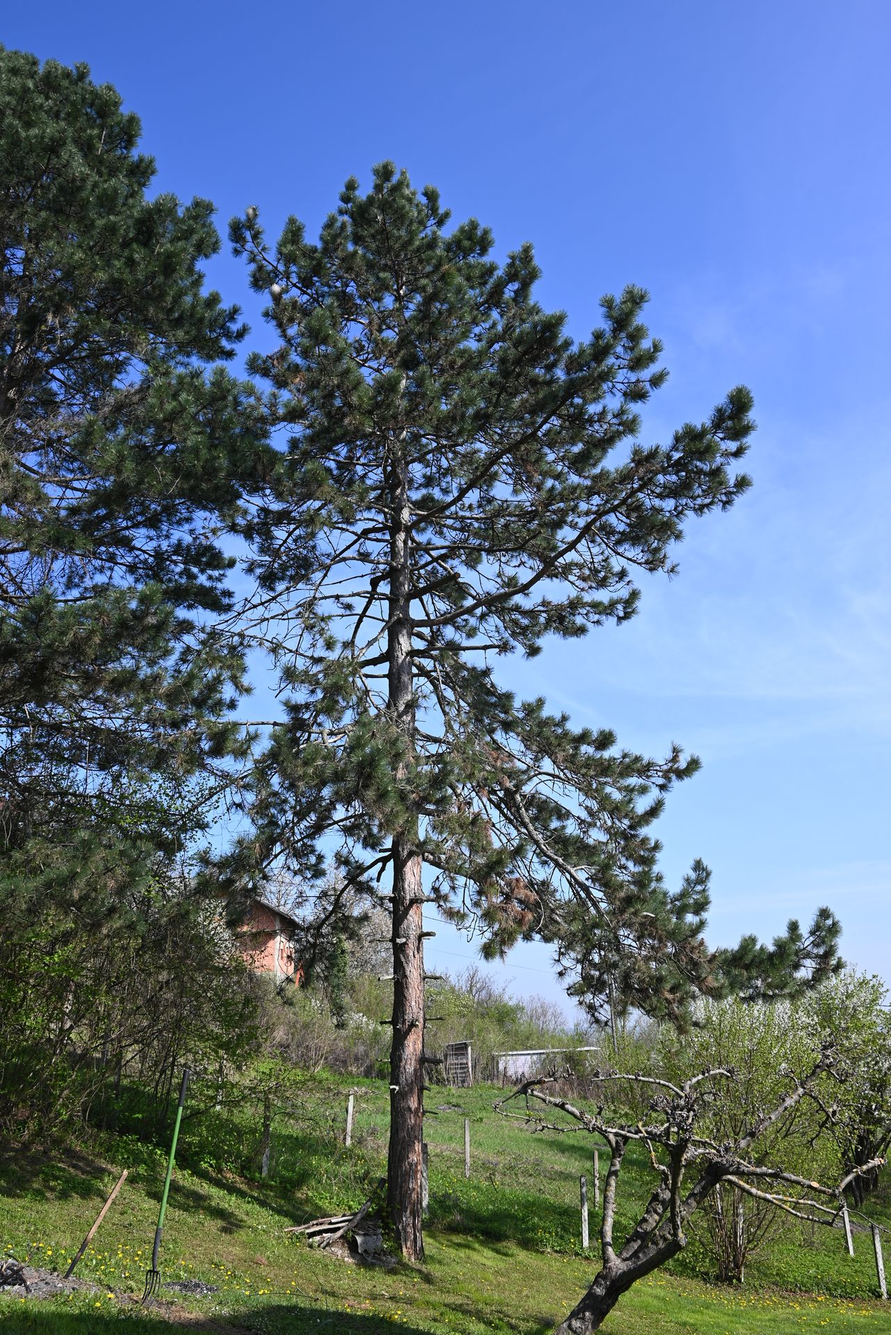thaumatopoea pityocampa jajno gnijezdo: (242, 208, 257, 223), (267, 282, 279, 299)
